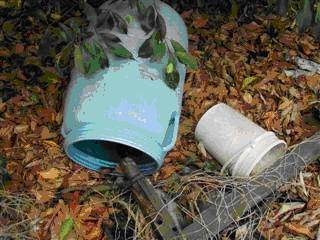bucket: (61, 1, 190, 182), (192, 100, 287, 182)
